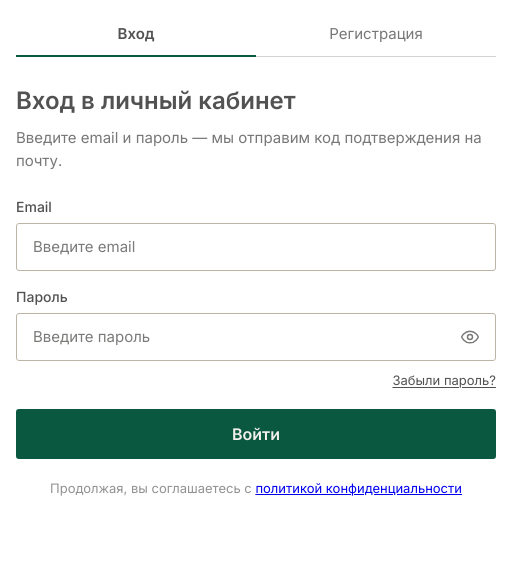
Test case: AccountAuth › shows validation errors for empty login submit
Click the button "Войти" at (256, 434), box [16,409,496,459]
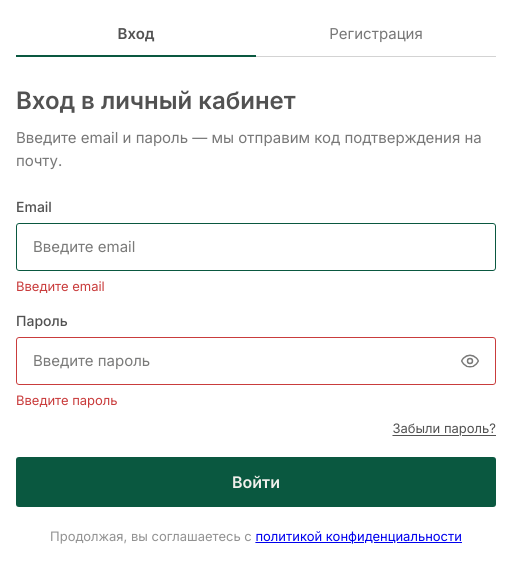
Check: the text "Введите email" is shown, box [16,278,105,294]
Check: the text "Введите пароль" is shown, box [16,392,118,408]
